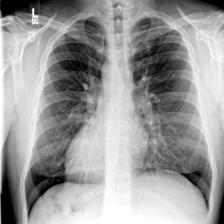normal: (21, 11, 217, 223)
